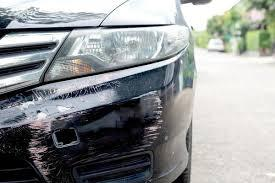scratch: (0, 67, 167, 182)
